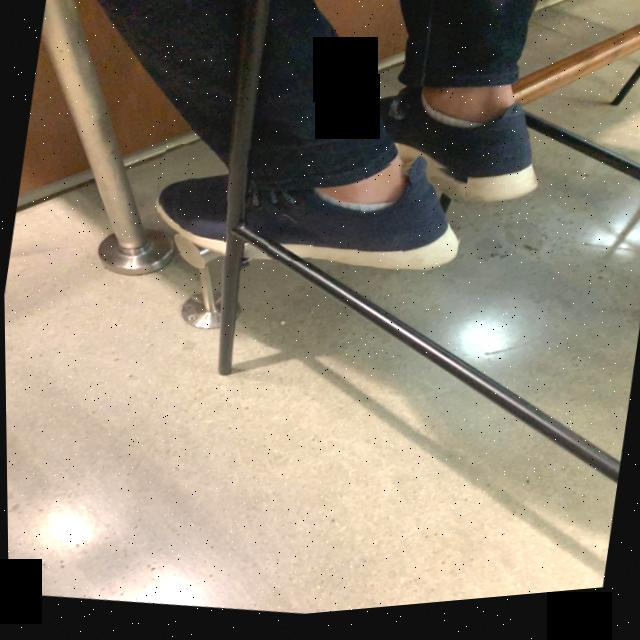shoe: (160, 167, 458, 278)
